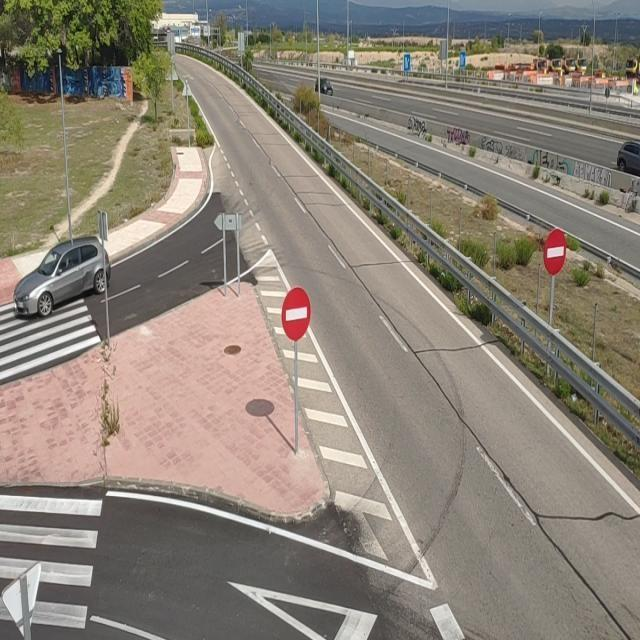Car: (13, 236, 111, 320), (315, 76, 335, 96)
